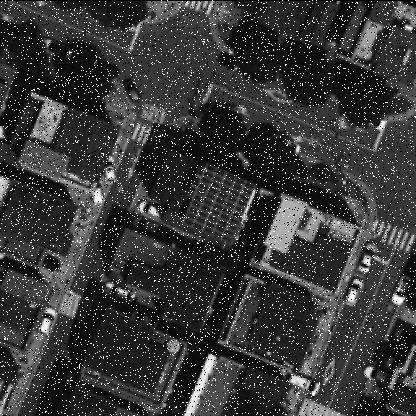solar-pv-panel: (183, 162, 256, 243)
